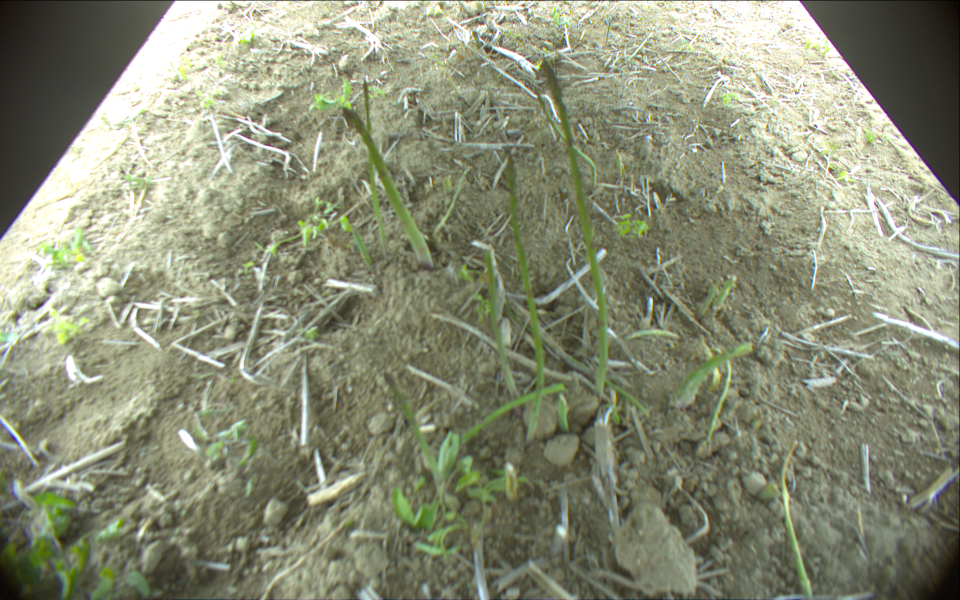aspa: (541, 59, 610, 398), (346, 111, 434, 266), (504, 142, 545, 443), (383, 371, 447, 506), (449, 385, 563, 453), (532, 87, 599, 189), (780, 443, 817, 600), (668, 342, 754, 406), (484, 247, 518, 405), (362, 80, 391, 263), (432, 165, 476, 238), (346, 219, 371, 268), (714, 276, 739, 311), (697, 283, 718, 321), (558, 393, 569, 436), (505, 463, 515, 503), (614, 147, 626, 179)
